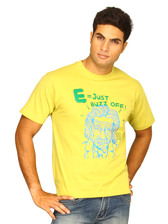clothoes: (18, 59, 156, 197)
